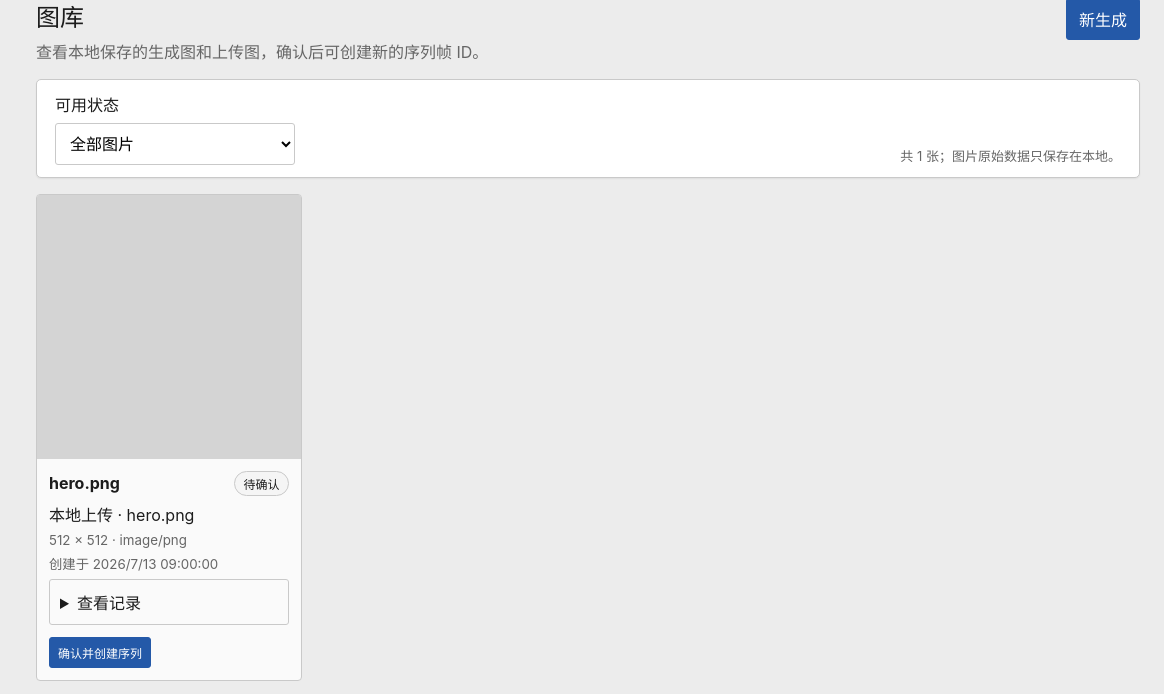
ImageLibraryPage › shows source metadata and explicitly confirms before entering sequence creation
Expected: the text "hero.png" is shown, [49, 473, 120, 493]
Expected: the text "512 × 512 · image/png" is shown, [49, 532, 187, 548]
Click the button "确认并创建序列".
click(100, 652)  # box [49, 636, 151, 668]
(page scrolled)
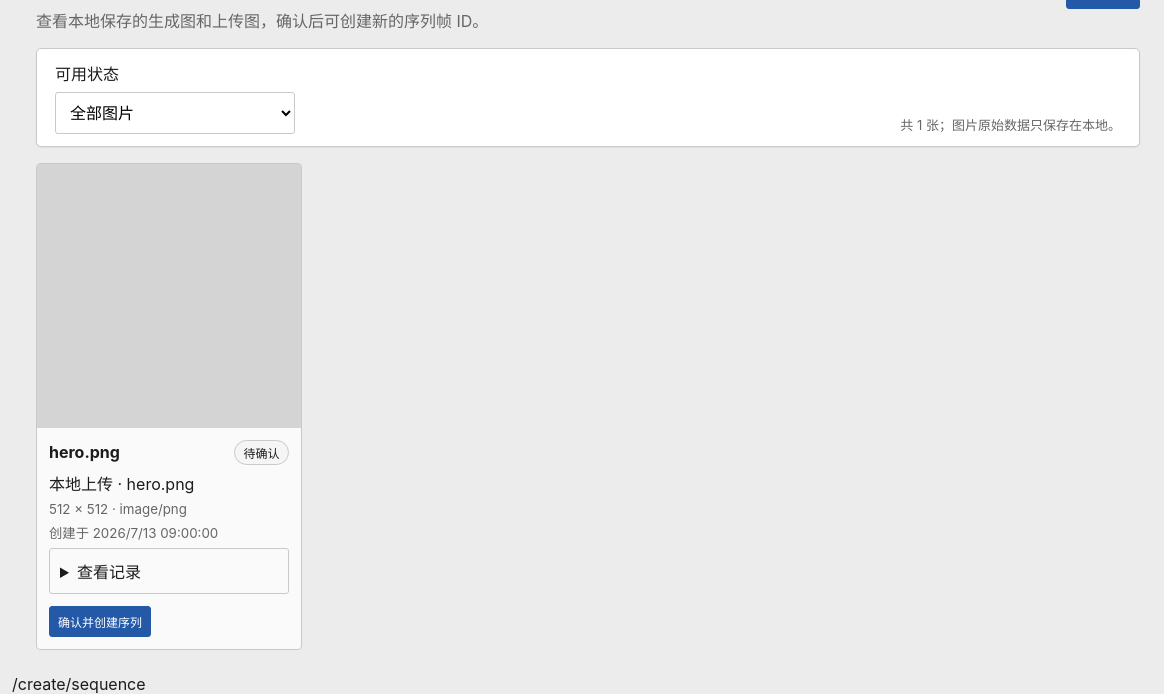
Expected: the text with test id "location" reads "/create/sequence", [12, 674, 146, 693]
